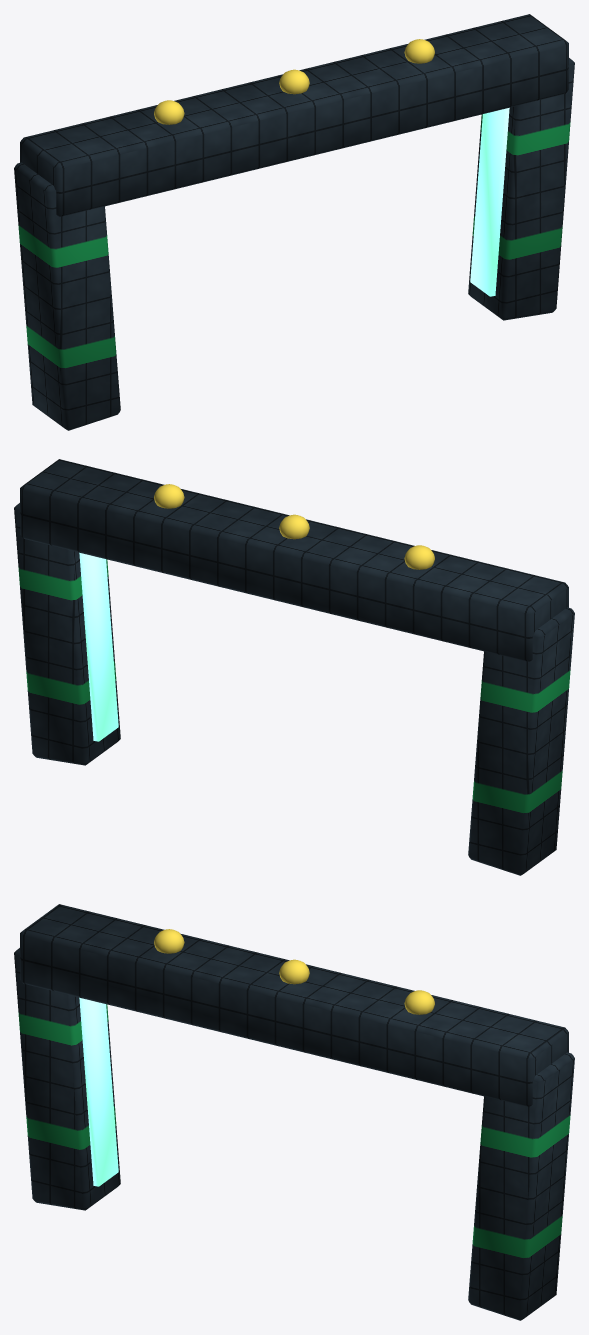
The model's file is prop_lab_arch.glb.
The picture shows the model from 3 angles, top to bottom: view 1: azimuth 30°, elevation 25°; view 2: azimuth 150°, elevation 25°; view 3: azimuth 330°, elevation 25°; orthographic projection.
Parts seen in each view (by area): view 1: LabPillar_-1.0; view 2: LabPillar_-1.0; view 3: LabPillar_-1.0.
Boxes of the visible parts, <box> form: LabPillar_-1.0: <box>14,14,574,430</box>; LabPillar_-1.0: <box>14,459,574,875</box>; LabPillar_-1.0: <box>14,904,574,1320</box>.
Bounding box in the file's own units: 33.77 × 17.62 × 4.4.
Materials: 3 (1 with a texture image).
